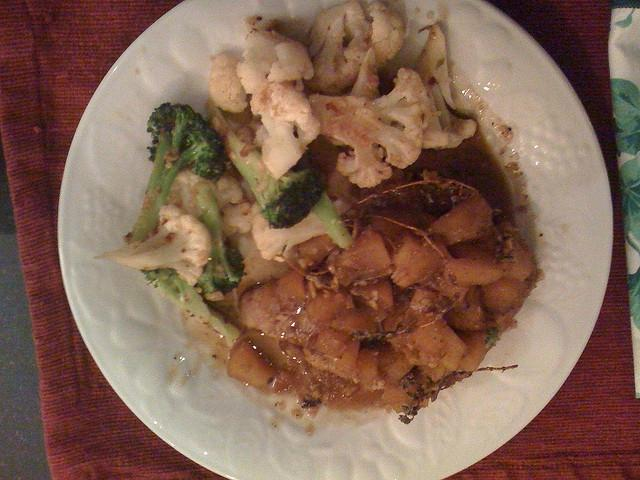broccoli: (204, 98, 326, 228), (123, 102, 227, 246), (143, 268, 240, 346), (196, 182, 246, 292), (310, 190, 352, 248)
cauliflower: (327, 68, 432, 188), (303, 0, 406, 94), (95, 204, 212, 286), (412, 22, 476, 152), (248, 79, 322, 179), (237, 27, 314, 94), (251, 202, 328, 262), (208, 52, 248, 114), (221, 201, 260, 237)
